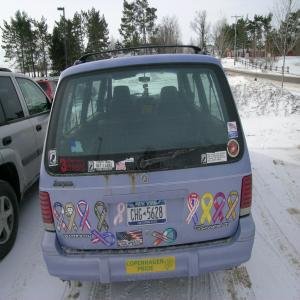Vehicle-registration-plate: (127, 201, 167, 228)
